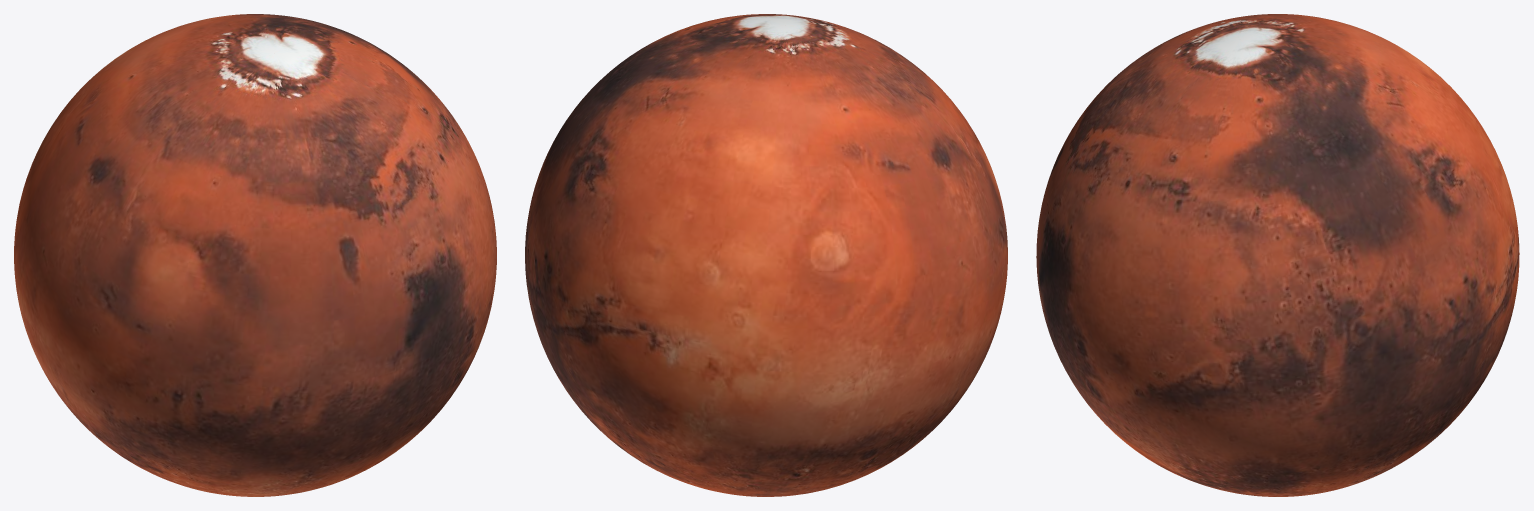
3 views of the same model, side by side, from view 1: azimuth 30°, elevation 25°; view 2: azimuth 150°, elevation 25°; view 3: azimuth 270°, elevation 25° (orthographic).
Parts seen in each view (by area): view 1: mars_1; view 2: mars_1; view 3: mars_1.
Part boxes in pixels (x1,y1,x2,y2): mars_1: (14,14,496,496); mars_1: (525,14,1007,496); mars_1: (1036,14,1519,496).
Bounding box in the file's own units: 0.4 × 0.4 × 0.4.
1 material, 1 textured.
